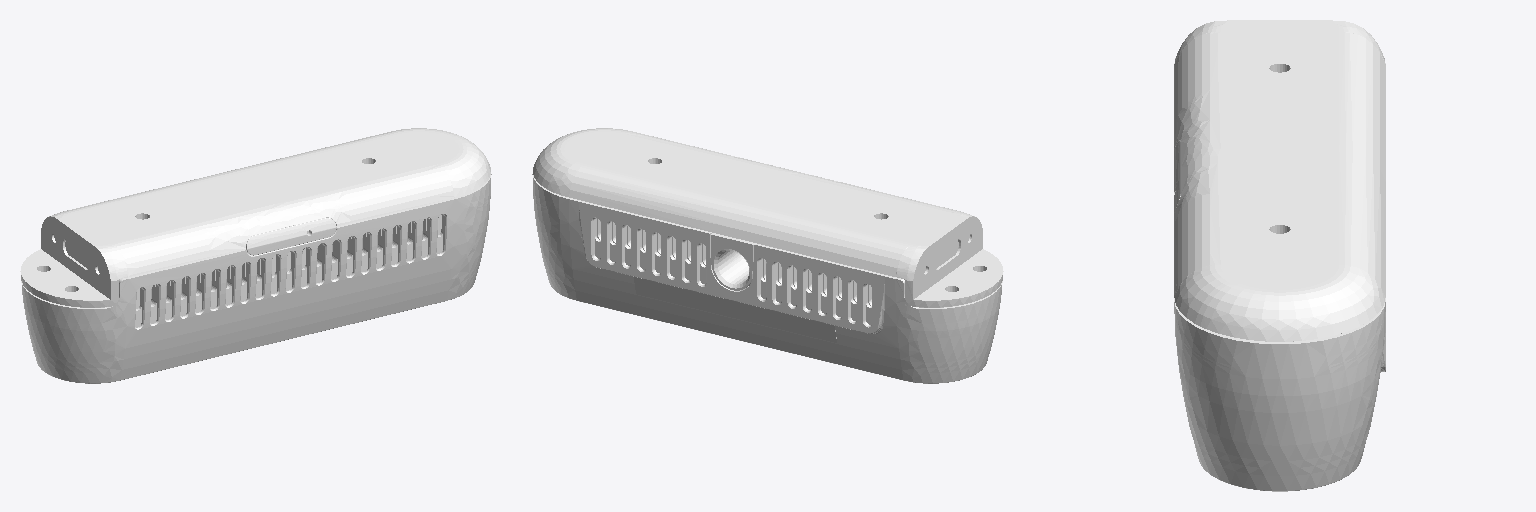
The robot description file, URDF, robot "RealSense_D435.urdf":
<?xml version="1.0" ?>
<robot name="RealSense_D435.urdf">
  <link name="base">
    <!-- <contact>
      <lateral_friction value="1.0"/>
    </contact> -->
    <inertial>
      <origin rpy="0 0 0" xyz="0 0 0"/>
       <mass value=".0"/>
       <inertia ixx="1" ixy="0" ixz="0" iyy="1" iyz="0" izz="1"/>
    </inertial>
    <visual>
      <origin rpy="0 0 0" xyz="0 0 0"/>
      <geometry>
            <mesh filename="RealSense_D435.obj" scale="1 1 1"/>
      </geometry>
       <material name="white">
        <color rgba="1 1 1 1"/>
      </material>
    </visual>
    <collision>
      <origin rpy="0 0 0" xyz="0 0 0"/>
      <geometry>
	 	    <mesh filename="RealSense_D435.obj" scale="1 1 1"/>
      </geometry>
    </collision>
  </link>
</robot>

--- What the picture shows (computed from the rendered views, not written in the file) ---
Views: 3 orthographic renders of the robot side by side, from view 1: azimuth 30°, elevation 25°; view 2: azimuth 150°, elevation 25°; view 3: azimuth 270°, elevation 25°.
Model RealSense_D435.urdf with 1 links and 0 joints (none), rooted at base, posed every joint at zero.
Links seen in each view (by area): view 1: base; view 2: base; view 3: base.
Link boxes in pixels (<box>): base: <box>20,128,491,383</box>; base: <box>532,128,1003,383</box>; base: <box>1174,20,1385,491</box>.
Size in the robot's own frame: 0.0899 by 0.025 by 0.025 metres.
1 mesh visuals loaded from 1 distinct referenced files (1 OBJ).